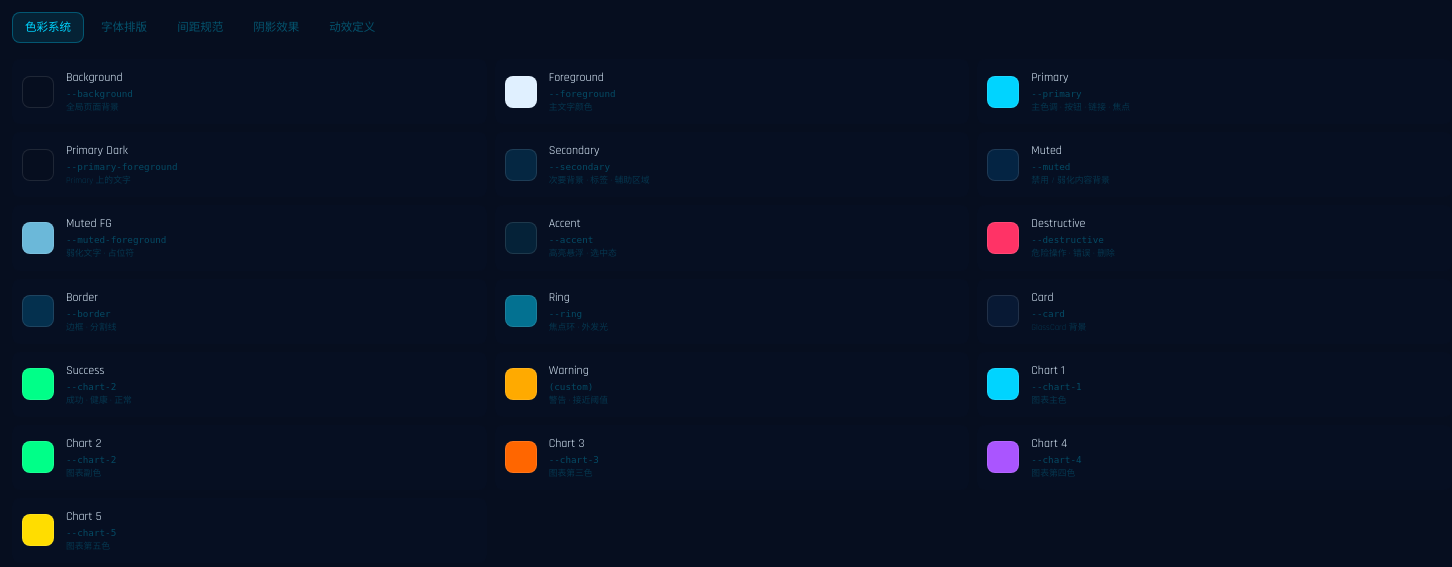
Test: DesignTokens › 渲染 › 切换到间距标签
This screenshot has width=1452, height=567.
Click the button with test id "token-tab-spacing" at (200, 28), box [164,12,236,43]
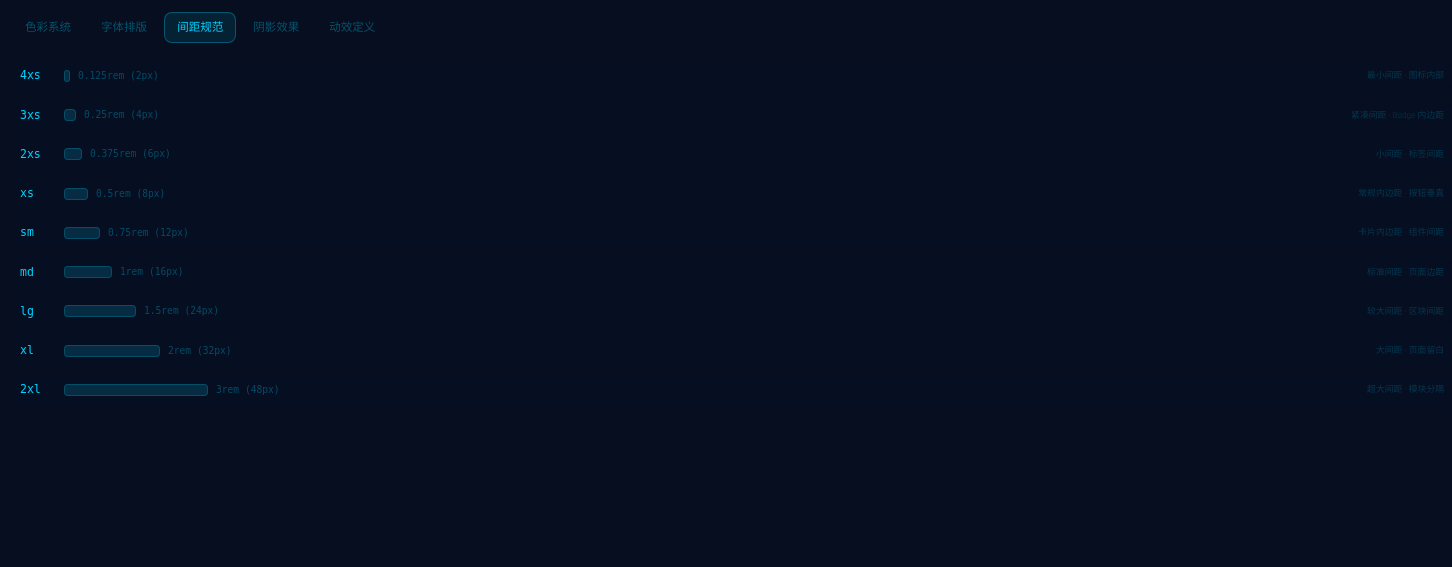
Expected: the element with test id "token-spacing" is shown
